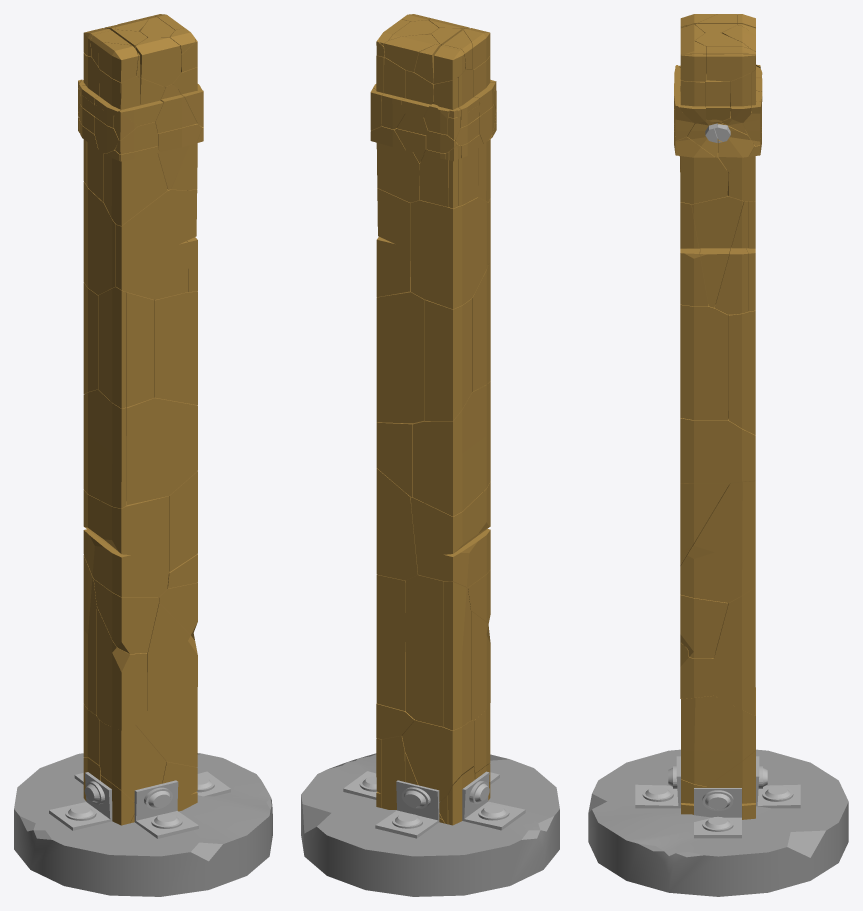
The picture shows the model from 3 angles, left to right: view 1: azimuth 30°, elevation 25°; view 2: azimuth 150°, elevation 25°; view 3: azimuth 270°, elevation 25°; orthographic projection.
Visible parts, largest first — view 1: Circle.008, Cube.150_cell.072, Cube.150_cell.014, Cube.150_cell.097, Cube.150_cell.048, Cube.150_cell.039, Cube.150_cell.027, Cube.150_cell.068, Cube.150_cell.012, Cube.150_cell.069, Cube.150_cell.050, Cube.150_cell.071 (+28 smaller); view 2: Circle.008, Cube.150_cell.034, Cube.150_cell.039, Cube.150_cell.037, Cube.150_cell.072, Cube.150_cell.004, Cube.150_cell.081, Cube.150_cell.070, Cube.150_cell.084, Cube.150_cell.060, Cube.150_cell.040, Cube.150_cell.076 (+28 smaller); view 3: Circle.008, Cube.150_cell.040, Cube.150_cell.048, Cube.150_cell.050, Cube.150_cell.097, Cube.150_cell.060, Cube.150_cell.046, Cube.150_cell.037, Cube.150_cell.047, Cube.150_cell.067, Plane.001, Cube.150_cell.041 (+19 smaller).
Part boxes in pixels (x1,y1,x2,y2): Circle.008: (14, 753, 272, 896); Cube.150_cell.072: (83, 490, 168, 597); Cube.150_cell.014: (116, 189, 188, 299); Cube.150_cell.097: (126, 397, 197, 504); Cube.150_cell.048: (154, 291, 197, 404); Cube.150_cell.039: (83, 389, 126, 508); Cube.150_cell.027: (96, 607, 147, 730); Cube.150_cell.068: (147, 603, 197, 710); Cube.150_cell.012: (100, 721, 166, 801); Cube.150_cell.069: (104, 148, 167, 225); Cube.150_cell.050: (135, 687, 197, 767); Cube.150_cell.071: (98, 287, 125, 408); Circle.008: (301, 753, 559, 896); Cube.150_cell.034: (410, 197, 487, 309); Cube.150_cell.039: (413, 381, 490, 516); Cube.150_cell.037: (376, 291, 424, 423); Cube.150_cell.072: (411, 481, 490, 587); Cube.150_cell.004: (405, 575, 443, 726); Cube.150_cell.081: (424, 298, 472, 421); Cube.150_cell.070: (443, 581, 470, 730); Cube.150_cell.084: (402, 720, 473, 801); Cube.150_cell.060: (376, 575, 405, 710); Cube.150_cell.040: (376, 468, 418, 580); Cube.150_cell.076: (376, 188, 410, 297); Circle.008: (588, 749, 848, 896); Cube.150_cell.040: (680, 481, 755, 602); Cube.150_cell.048: (680, 304, 728, 420); Cube.150_cell.050: (681, 695, 755, 786); Cube.150_cell.097: (680, 418, 755, 484); Cube.150_cell.060: (714, 587, 755, 715); Cube.150_cell.046: (691, 195, 743, 307); Cube.150_cell.037: (728, 310, 755, 434); Cube.150_cell.047: (675, 136, 728, 204); Cube.150_cell.067: (680, 594, 728, 658); Plane.001: (694, 788, 741, 838); Cube.150_cell.041: (715, 201, 748, 314).
Bounding box in the file's own units: 115 × 393 × 115.
